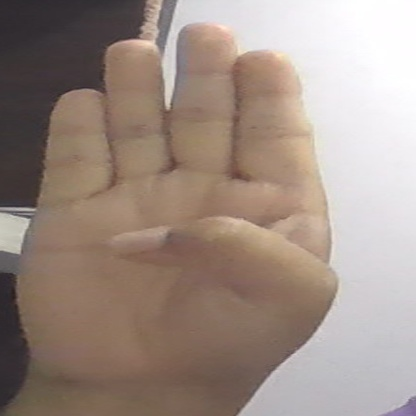B: (18, 23, 338, 404)
